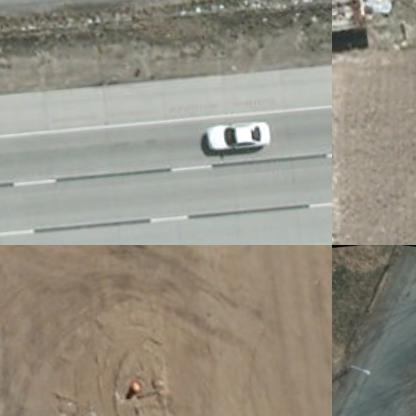car: (205, 106, 281, 154)
